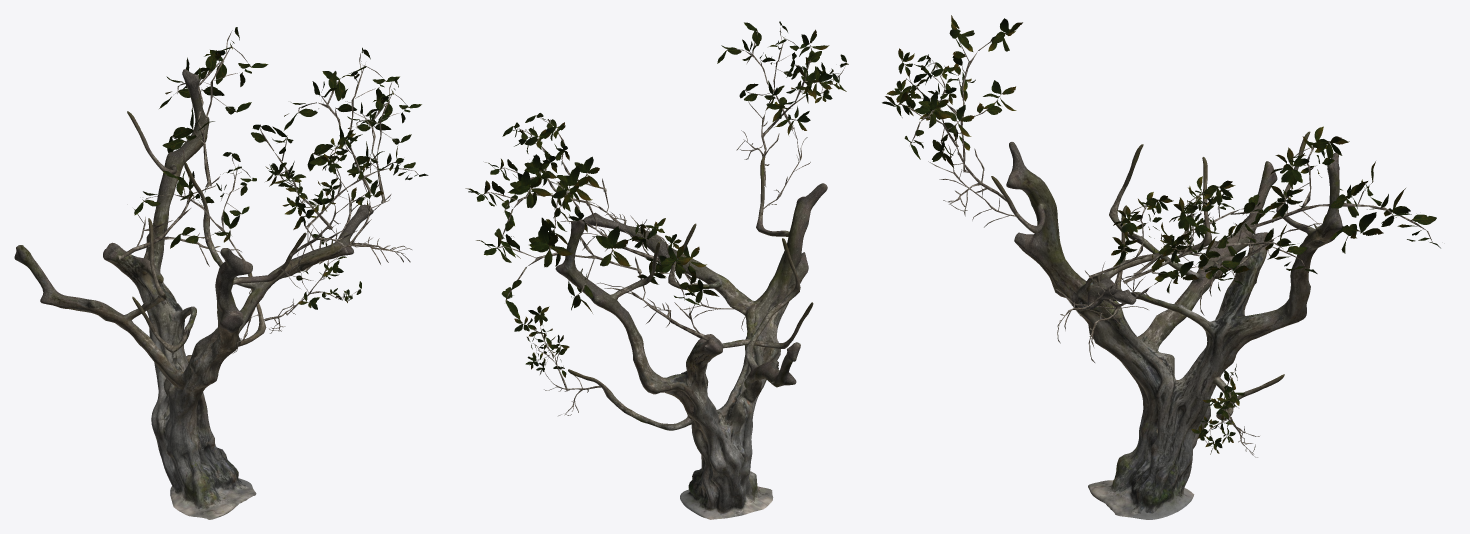
File: island_tree_01_geometry_nodes.gltf
3 renders of one model, left to right at view 1: azimuth 30°, elevation 25°; view 2: azimuth 150°, elevation 25°; view 3: azimuth 270°, elevation 25°, orthographic. The views are drawn at different scales.
Visible parts, largest first — view 1: island_tree_01_geometry_nodes__x; view 2: island_tree_01_geometry_nodes__x; view 3: island_tree_01_geometry_nodes__x.
Part boxes in pixels (x1=…): island_tree_01_geometry_nodes__x: x1=14, y1=27, x2=428, y2=519; island_tree_01_geometry_nodes__x: x1=465, y1=21, x2=848, y2=519; island_tree_01_geometry_nodes__x: x1=882, y1=15, x2=1440, y2=519.
Size of the model in its own units: 3.89 by 4.51 by 4.89.
Materials: 3 (3 with a texture image).
